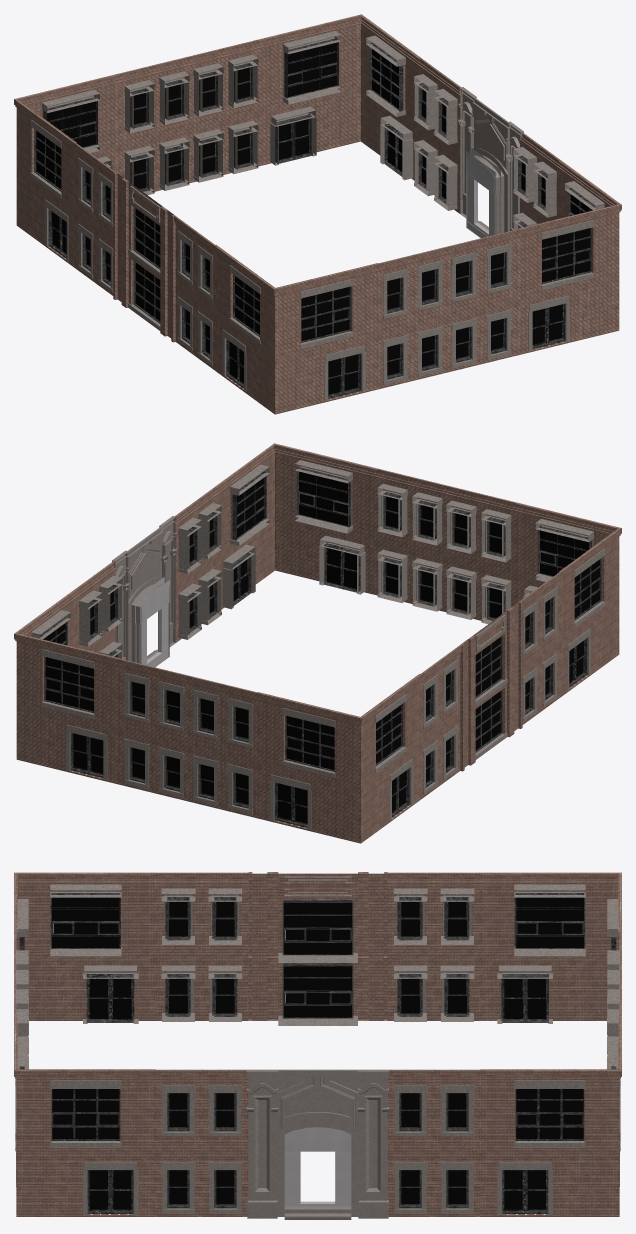
File: BuildingB_Bottom_Shell_VarA.fbx
3 renders of one model, top to bottom at view 1: azimuth 30°, elevation 25°; view 2: azimuth 150°, elevation 25°; view 3: azimuth 270°, elevation 25°, orthographic. The views are drawn at different scales.
Visible parts, largest first — view 1: BuildingB_Bottom_Shell_VarA; view 2: BuildingB_Bottom_Shell_VarA; view 3: BuildingB_Bottom_Shell_VarA.
Part boxes in pixels (box(x1,y1,x2,y2)): BuildingB_Bottom_Shell_VarA: box(14, 14, 621, 414); BuildingB_Bottom_Shell_VarA: box(14, 443, 621, 843); BuildingB_Bottom_Shell_VarA: box(14, 872, 621, 1219).
Size of the model in its own units: 2044 by 700 by 2620.
